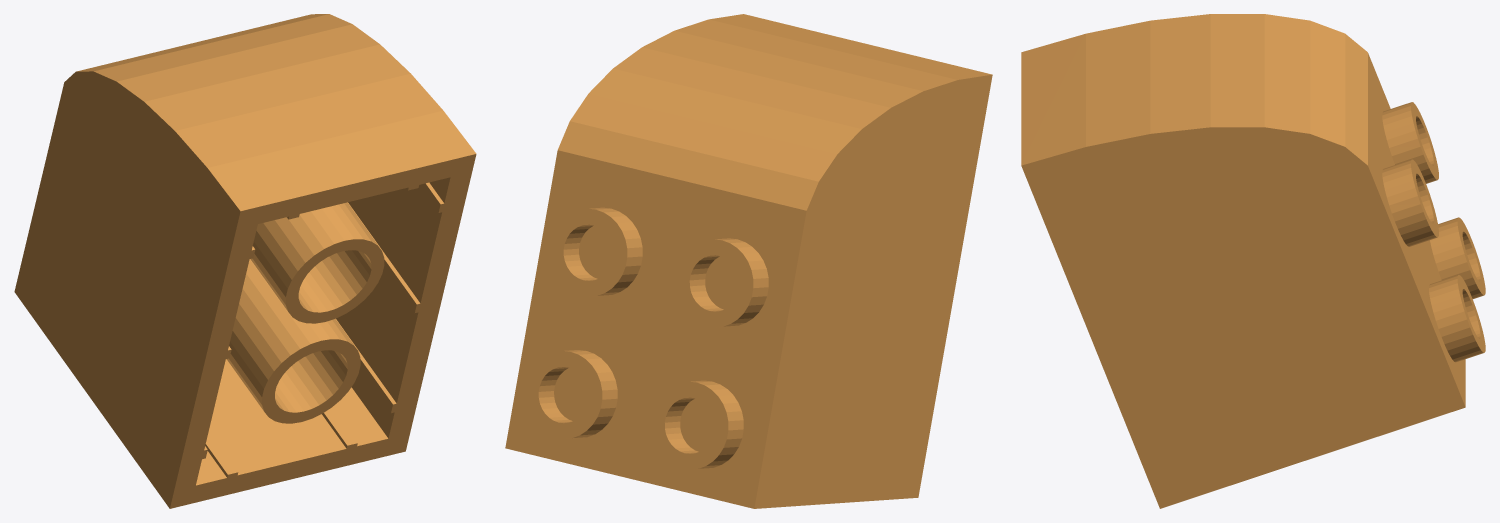
File: duplo4_6.dae
3 renders of one model, left to right at view 1: azimuth 30°, elevation 25°; view 2: azimuth 150°, elevation 25°; view 3: azimuth 270°, elevation 25°, orthographic. The views are drawn at different scales.
Visible parts, largest first — view 1: duplo4_019; view 2: duplo4_019; view 3: duplo4_019.
Part boxes in pixels (x1,y1,x2,y2): duplo4_019: [14, 14, 476, 508]; duplo4_019: [505, 14, 992, 508]; duplo4_019: [1021, 14, 1485, 508].
Bounding box in the file's own units: 0.0561 × 0.0972 × 0.0882.
